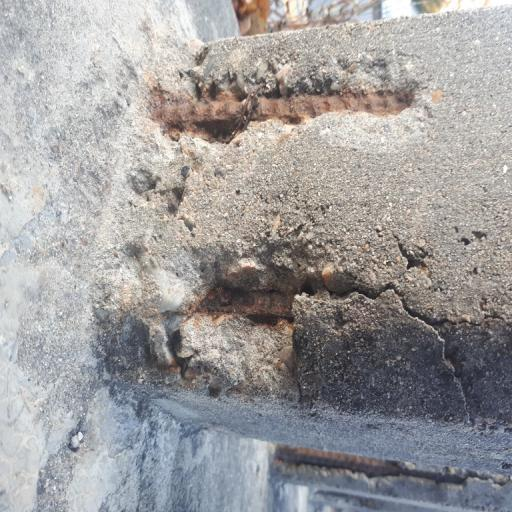exposed_rebar: (150, 84, 413, 140), (197, 288, 294, 324)
